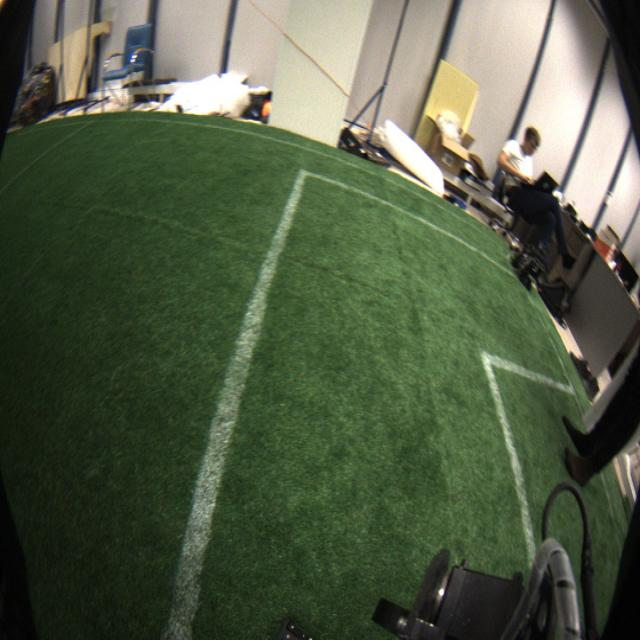goalpost: (582, 342, 638, 434)
